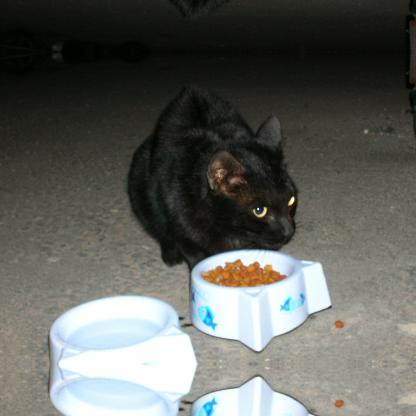Cat: (124, 88, 308, 274)
